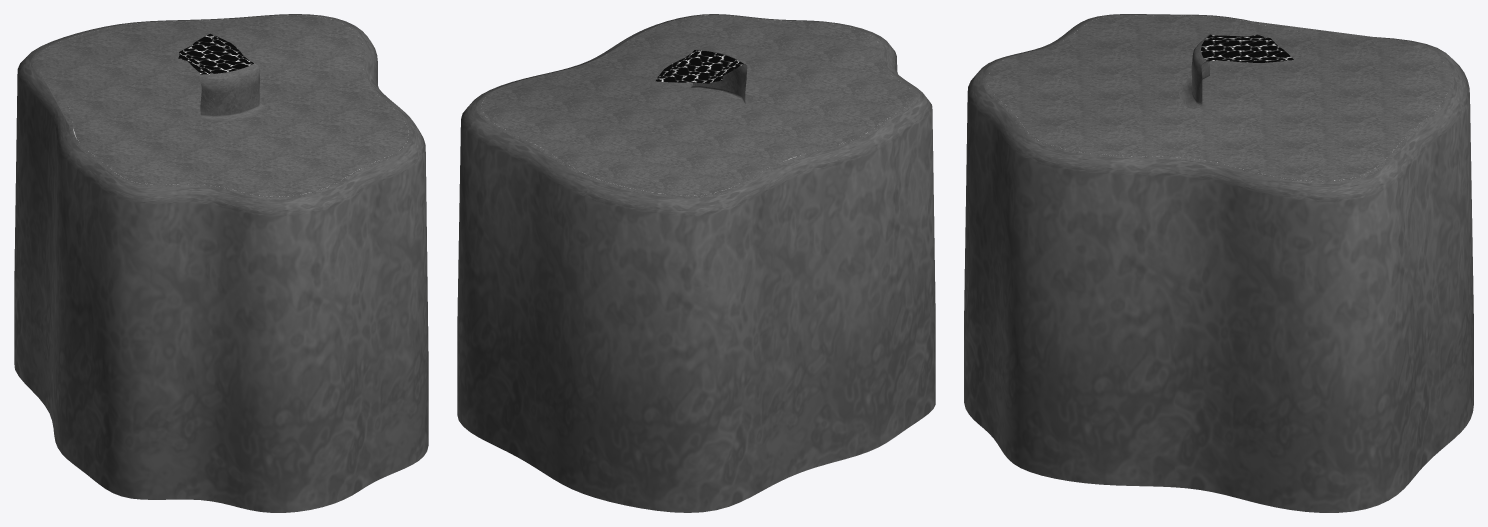
Rendered from SunBeachPlanetWater.fbx.
The picture shows the model from 3 angles, left to right: view 1: azimuth 30°, elevation 25°; view 2: azimuth 150°, elevation 25°; view 3: azimuth 270°, elevation 25°; orthographic projection. The views are drawn at different scales.
Visible parts, largest first — view 1: Water; view 2: Water; view 3: Water.
Part boxes in pixels (box(x1,y1,x2,y2)): Water: box(14, 14, 428, 512); Water: box(457, 14, 935, 512); Water: box(964, 14, 1473, 512).
Bounding box in the file's own units: 1184141 × 1093333 × 1382104.
Materials: 6 (5 with a texture image).
